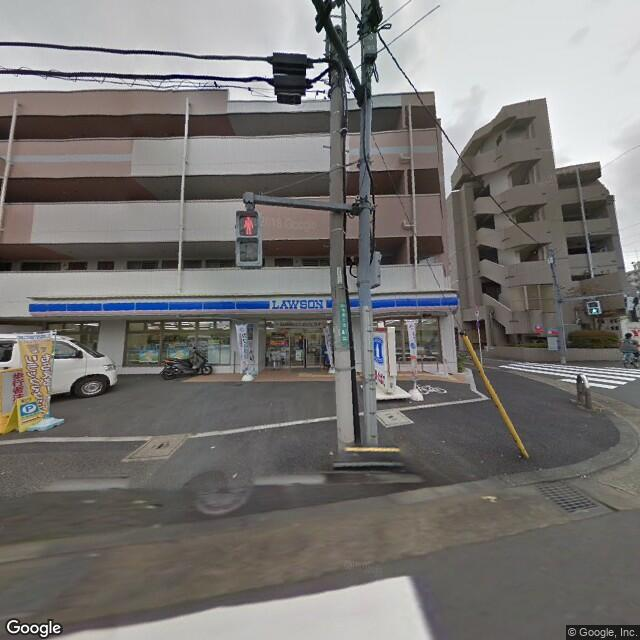lawson: (27, 286, 464, 320), (372, 330, 385, 371)
